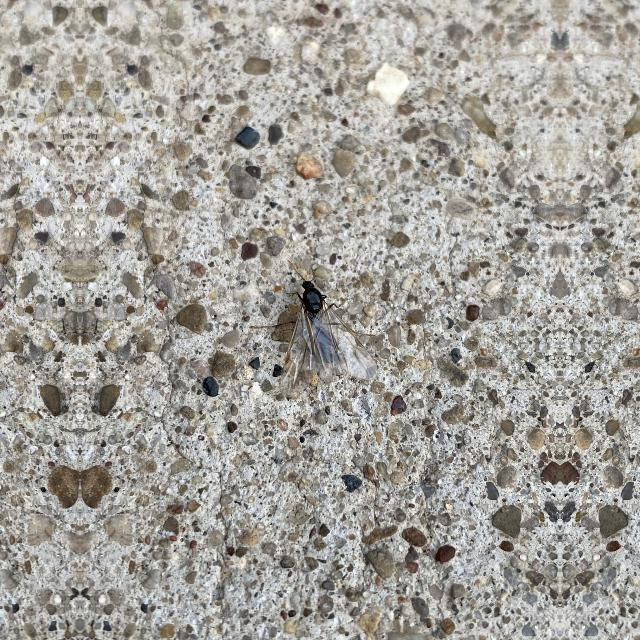Tetramorium: (272, 262, 366, 388)
